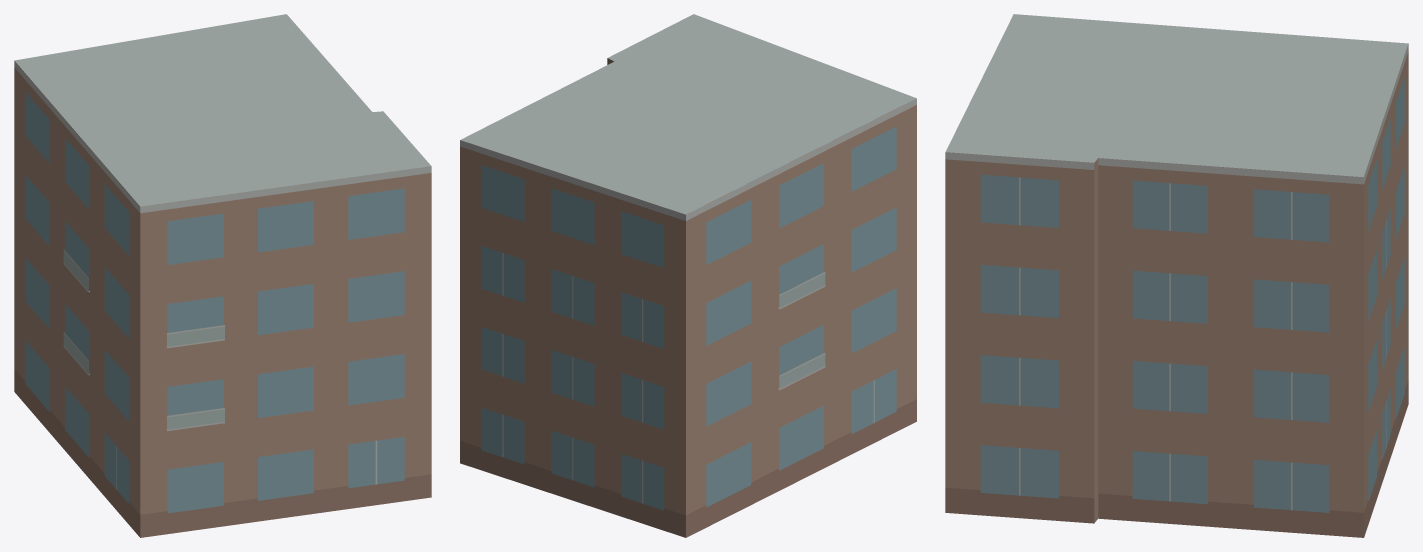
File: survey-upis-32980675.glb
3 views of the same model, side by side, from view 1: azimuth 30°, elevation 25°; view 2: azimuth 150°, elevation 25°; view 3: azimuth 270°, elevation 25° (orthographic). The views are drawn at different scales.
Visible parts, largest first — view 1: survey-upis-32980675.tmp; view 2: survey-upis-32980675.tmp; view 3: survey-upis-32980675.tmp.
Part boxes in pixels (x1,y1,x2,y2): survey-upis-32980675.tmp: (14,14,431,537); survey-upis-32980675.tmp: (460,14,916,537); survey-upis-32980675.tmp: (945,14,1408,537).
Size of the model in its own units: 11.85 by 12.2 by 14.21.
